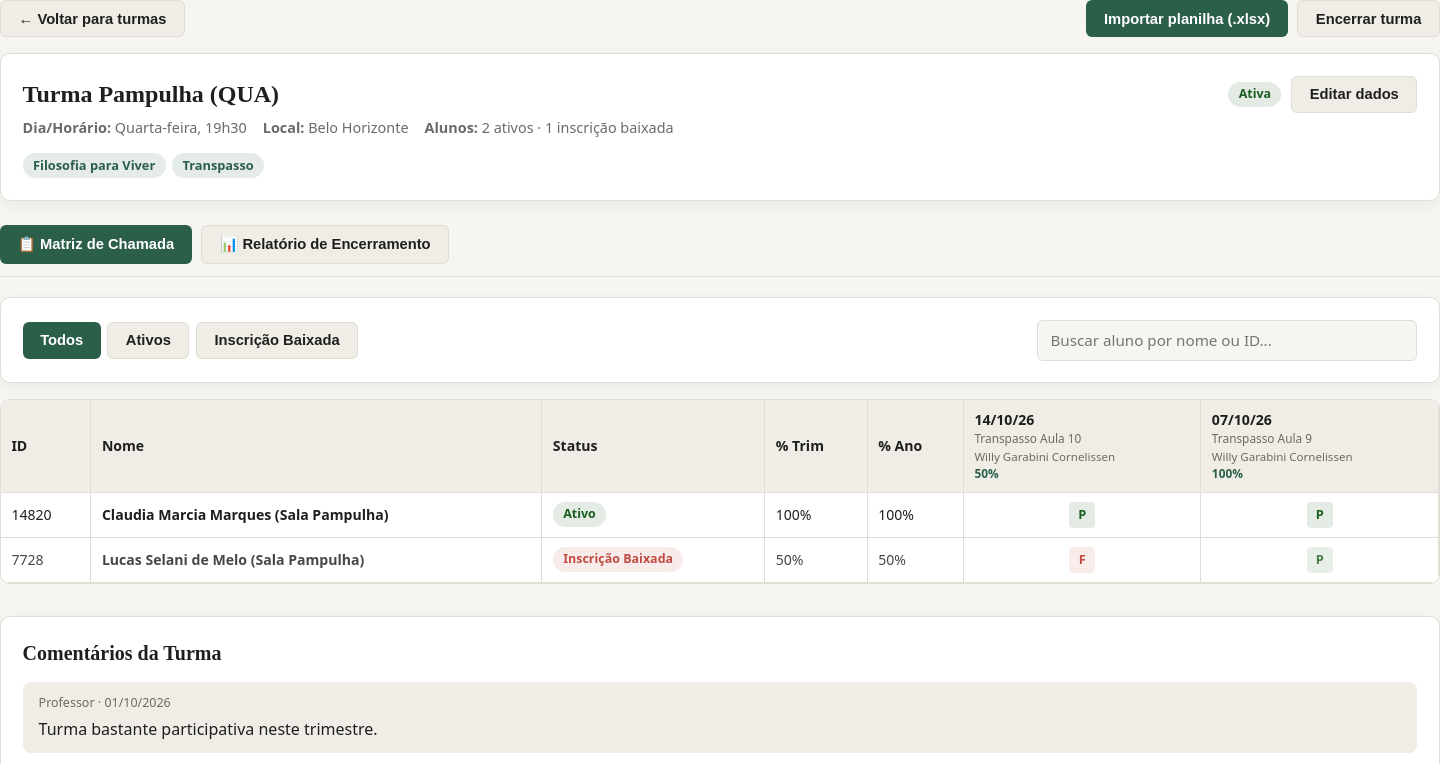
components/TurmaDetailView › filters students in real time by status (Todos, Ativos, Inscrição Baixada) and case-insensitive search by Nome or ID (TURMA-02 AC 2)
Click the button "Inscrição Baixada".
click(277, 340)  # box [196,322,358,359]
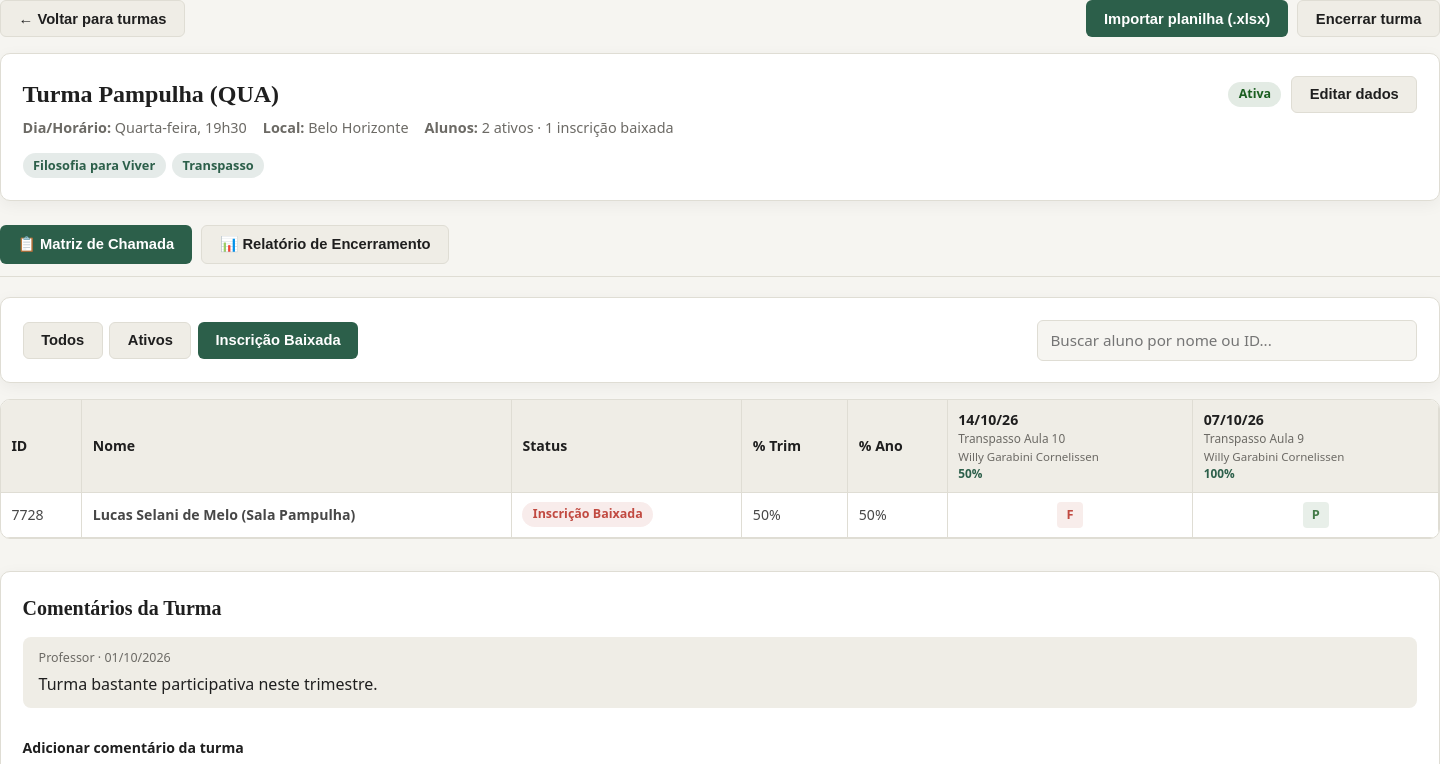
Expected: the text "Lucas Selani de Melo (Sala Pampulha)" is shown, [93,505,355,524]
Result: the text "Claudia Marcia Marques (Sala Pampulha)" is gone
Click the button "Ativos".
click(150, 340)  # box [109,322,191,359]
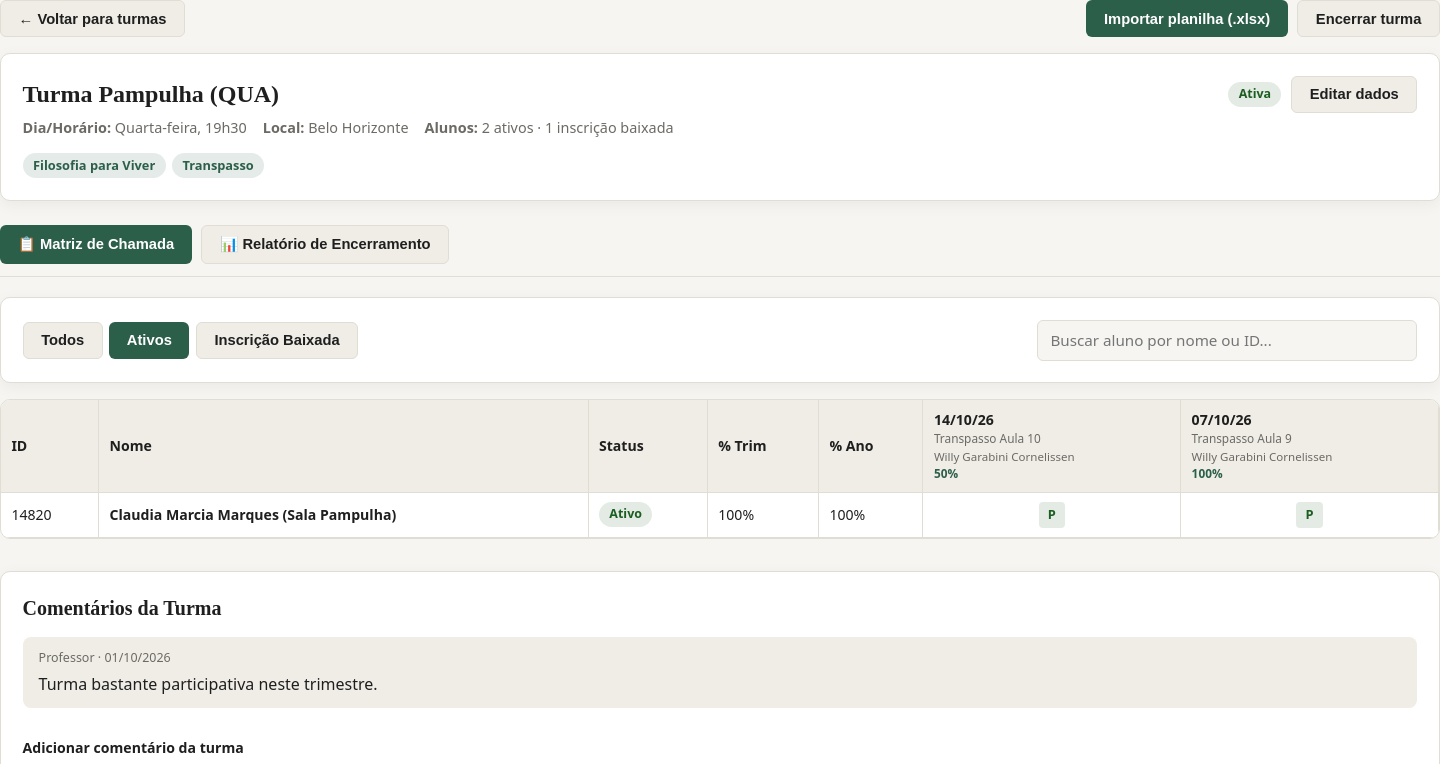
Result: the text "Claudia Marcia Marques (Sala Pampulha)" is shown at [110,505,396,524]
Result: the text "Lucas Selani de Melo (Sala Pampulha)" is gone
Click the button "Todos".
click(63, 340)  # box [23,322,103,359]
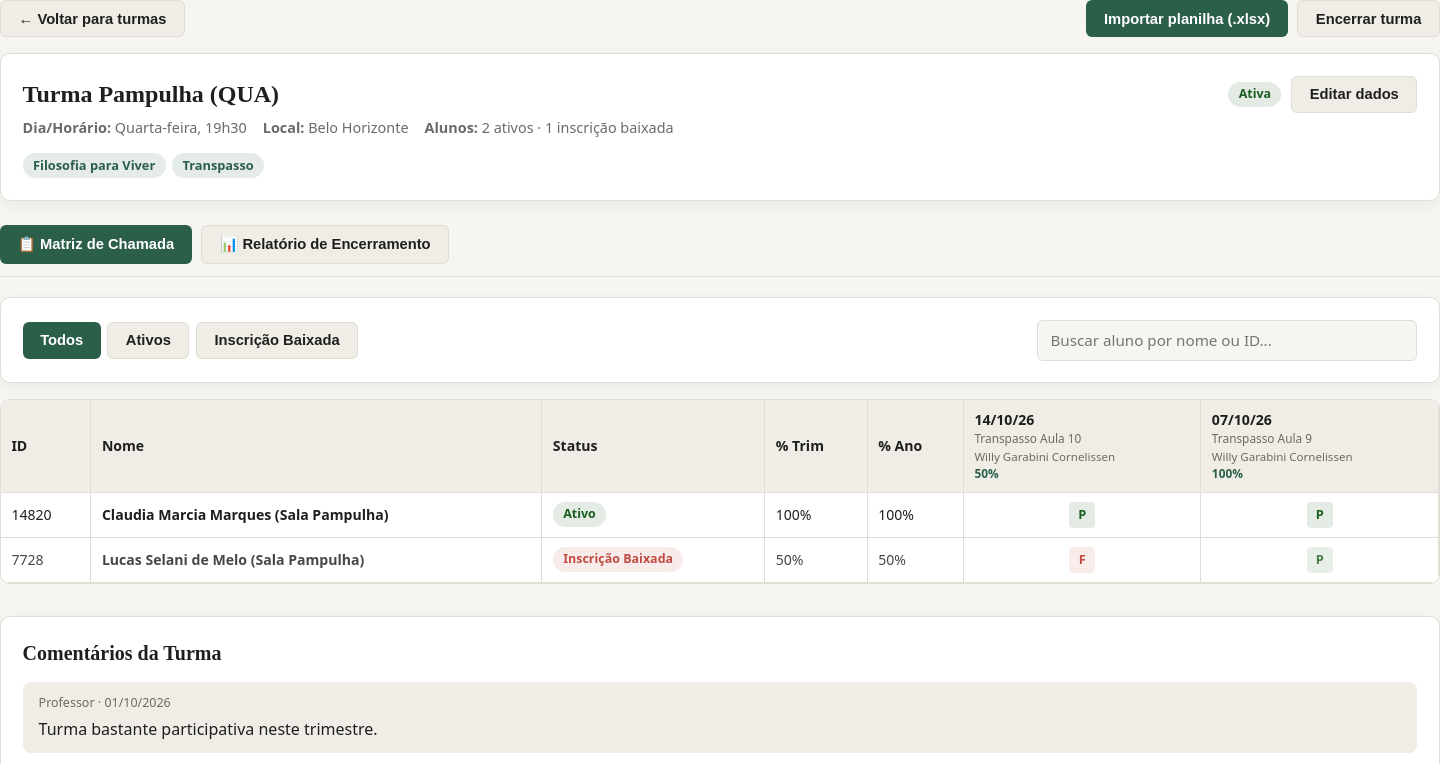
Type "7728" into the search field labelled "Buscar aluno por nome ou ID...".
click(1227, 340); type("7728")  # box [1037,320,1417,361]
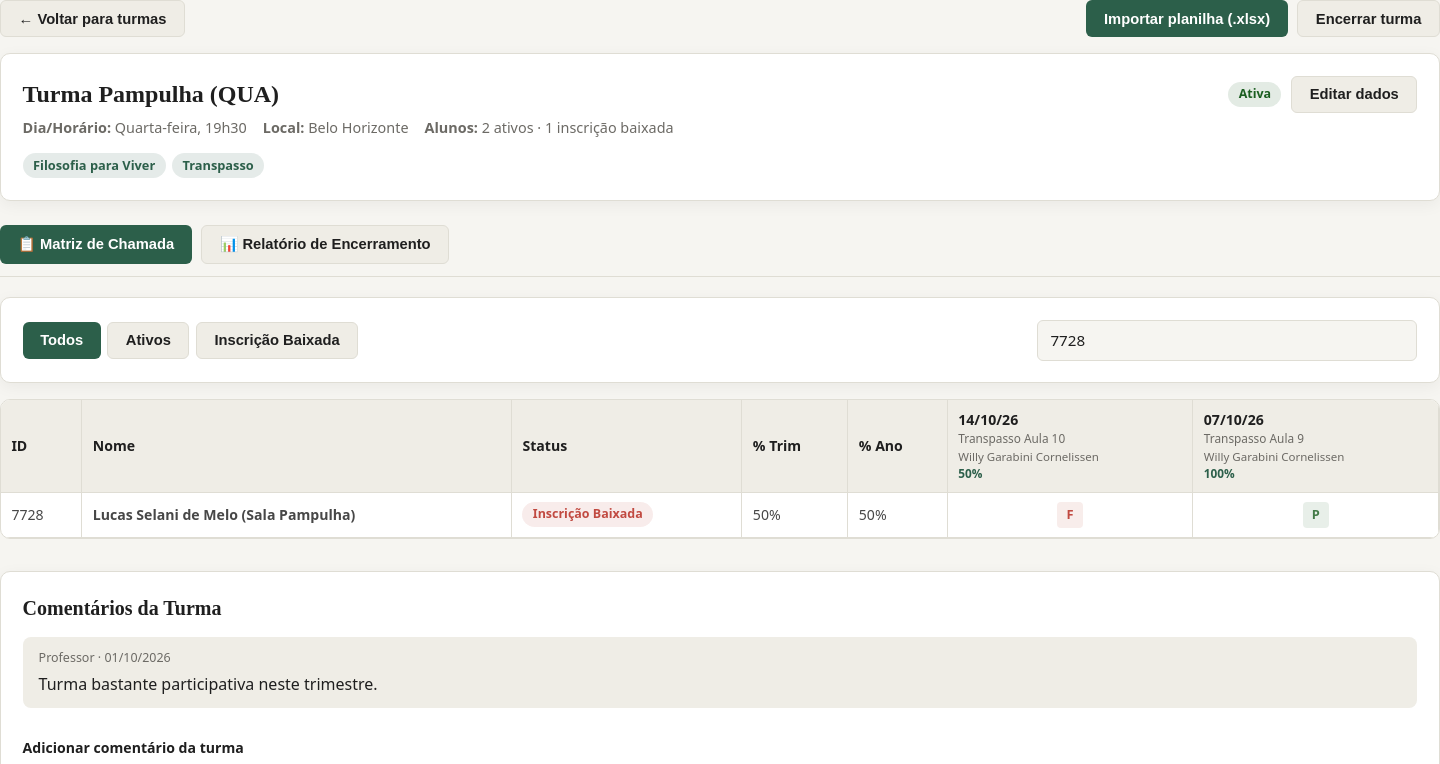
Result: the text "Lucas Selani de Melo (Sala Pampulha)" is shown at [93,505,355,524]
Result: the text "Claudia Marcia Marques (Sala Pampulha)" is gone
